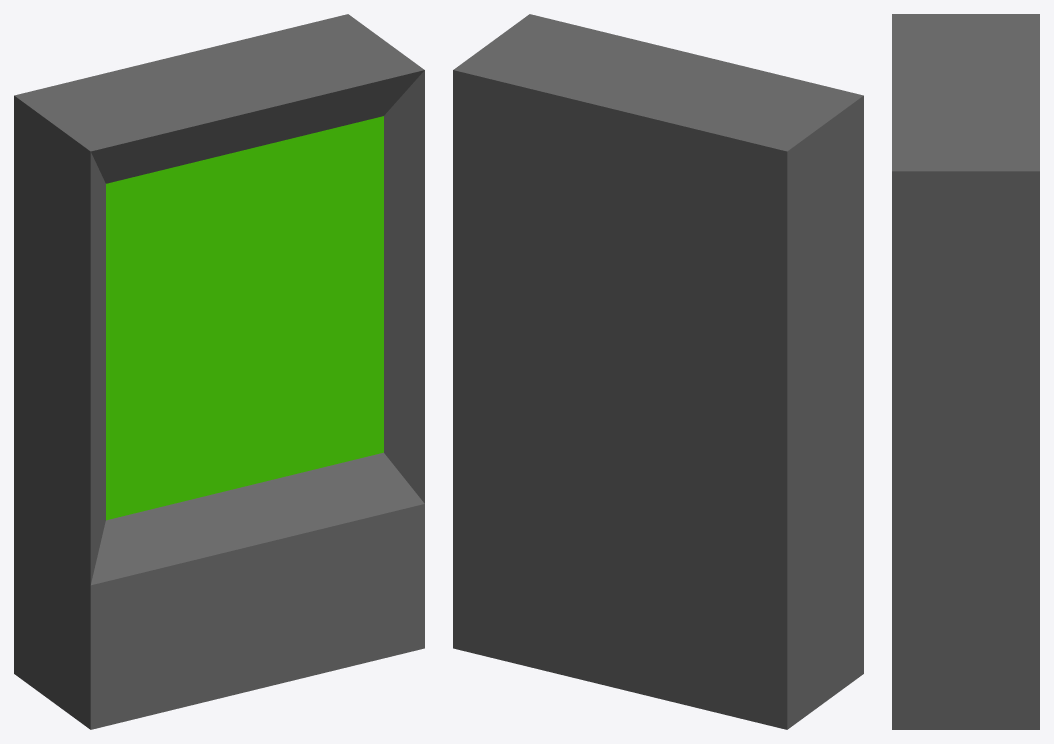
File: DoorButton.glb
3 views of the same model, side by side, from view 1: azimuth 30°, elevation 25°; view 2: azimuth 150°, elevation 25°; view 3: azimuth 270°, elevation 25° (orthographic). The views are drawn at different scales.
Visible parts, largest first — view 1: DoorPanel.001; view 2: DoorPanel.001; view 3: DoorPanel.001.
Boxes of the visible parts, x1=… form: DoorPanel.001: x1=14, y1=14, x2=424, y2=729; DoorPanel.001: x1=453, y1=14, x2=863, y2=729; DoorPanel.001: x1=892, y1=14, x2=1039, y2=729.
Bounding box in the file's own units: 0.2271 × 0.3758 × 0.0902.
